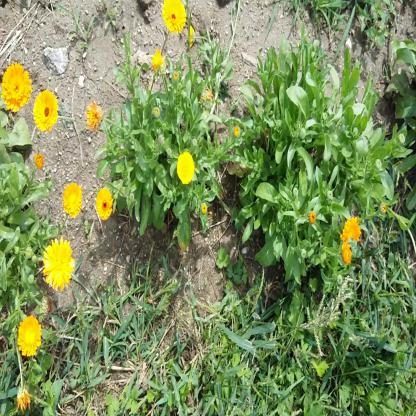marigold: (42, 240, 72, 290), (3, 64, 29, 108), (16, 317, 41, 357), (33, 91, 58, 130), (161, 0, 188, 36), (341, 216, 364, 245), (61, 184, 80, 218), (95, 186, 113, 221), (176, 150, 195, 182), (189, 23, 195, 46)
